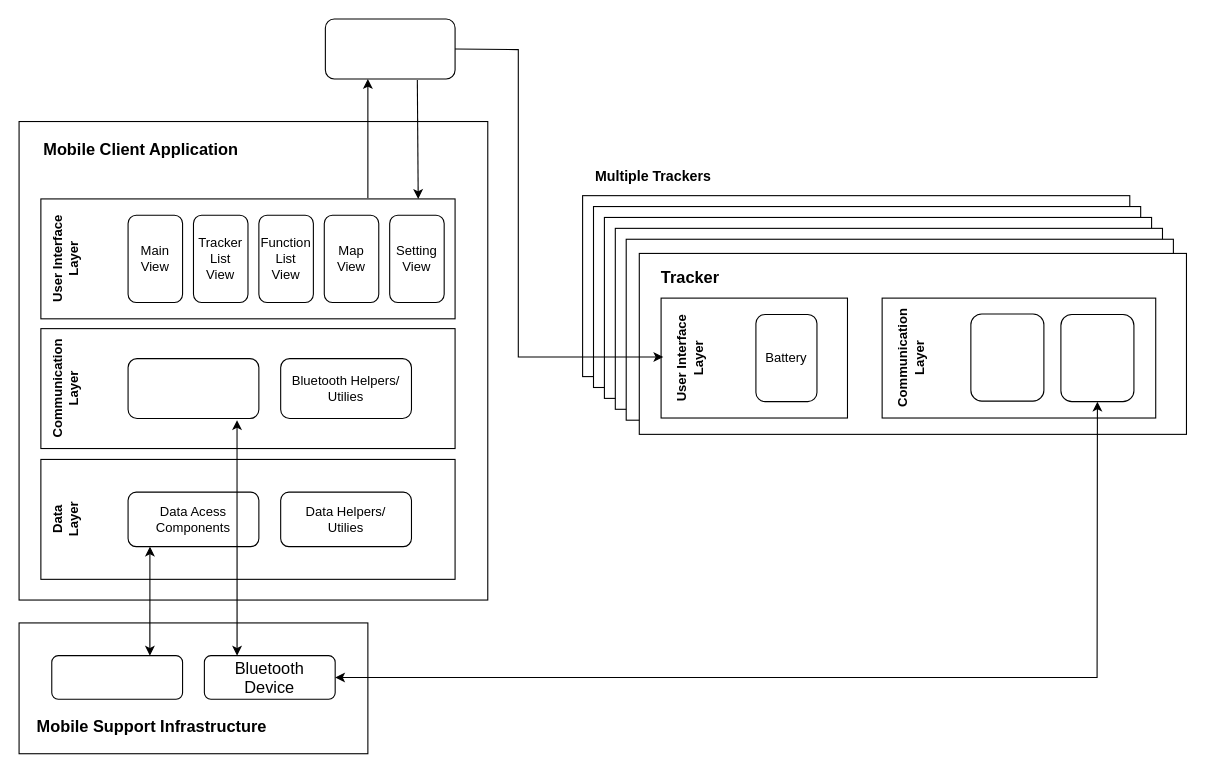
The diagram is 1206 pixels wide and 773 high, and some of its shapes have lost their labels. Each missing label, with the centre of its shape:
"Bluetooth Access Components" goes at point (193, 388).
"Bluetooth Sensor" goes at point (1097, 357).
"Data Storage" goes at point (117, 677).
"GPS Sensor" goes at point (1007, 357).
"Individual User" goes at point (389, 48).
